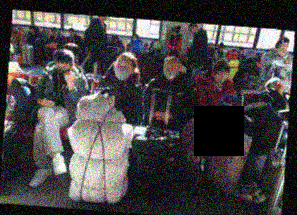with_mask: (112, 59, 132, 80), (162, 63, 179, 81), (53, 63, 69, 78), (132, 35, 138, 41)
without_mask: (213, 69, 229, 84), (269, 78, 285, 92), (279, 41, 289, 51), (188, 26, 194, 35), (51, 29, 57, 36), (28, 25, 33, 33), (112, 37, 118, 43), (12, 24, 18, 30), (171, 28, 176, 35), (239, 47, 244, 53), (69, 30, 74, 36), (218, 46, 223, 51), (208, 44, 213, 49)
